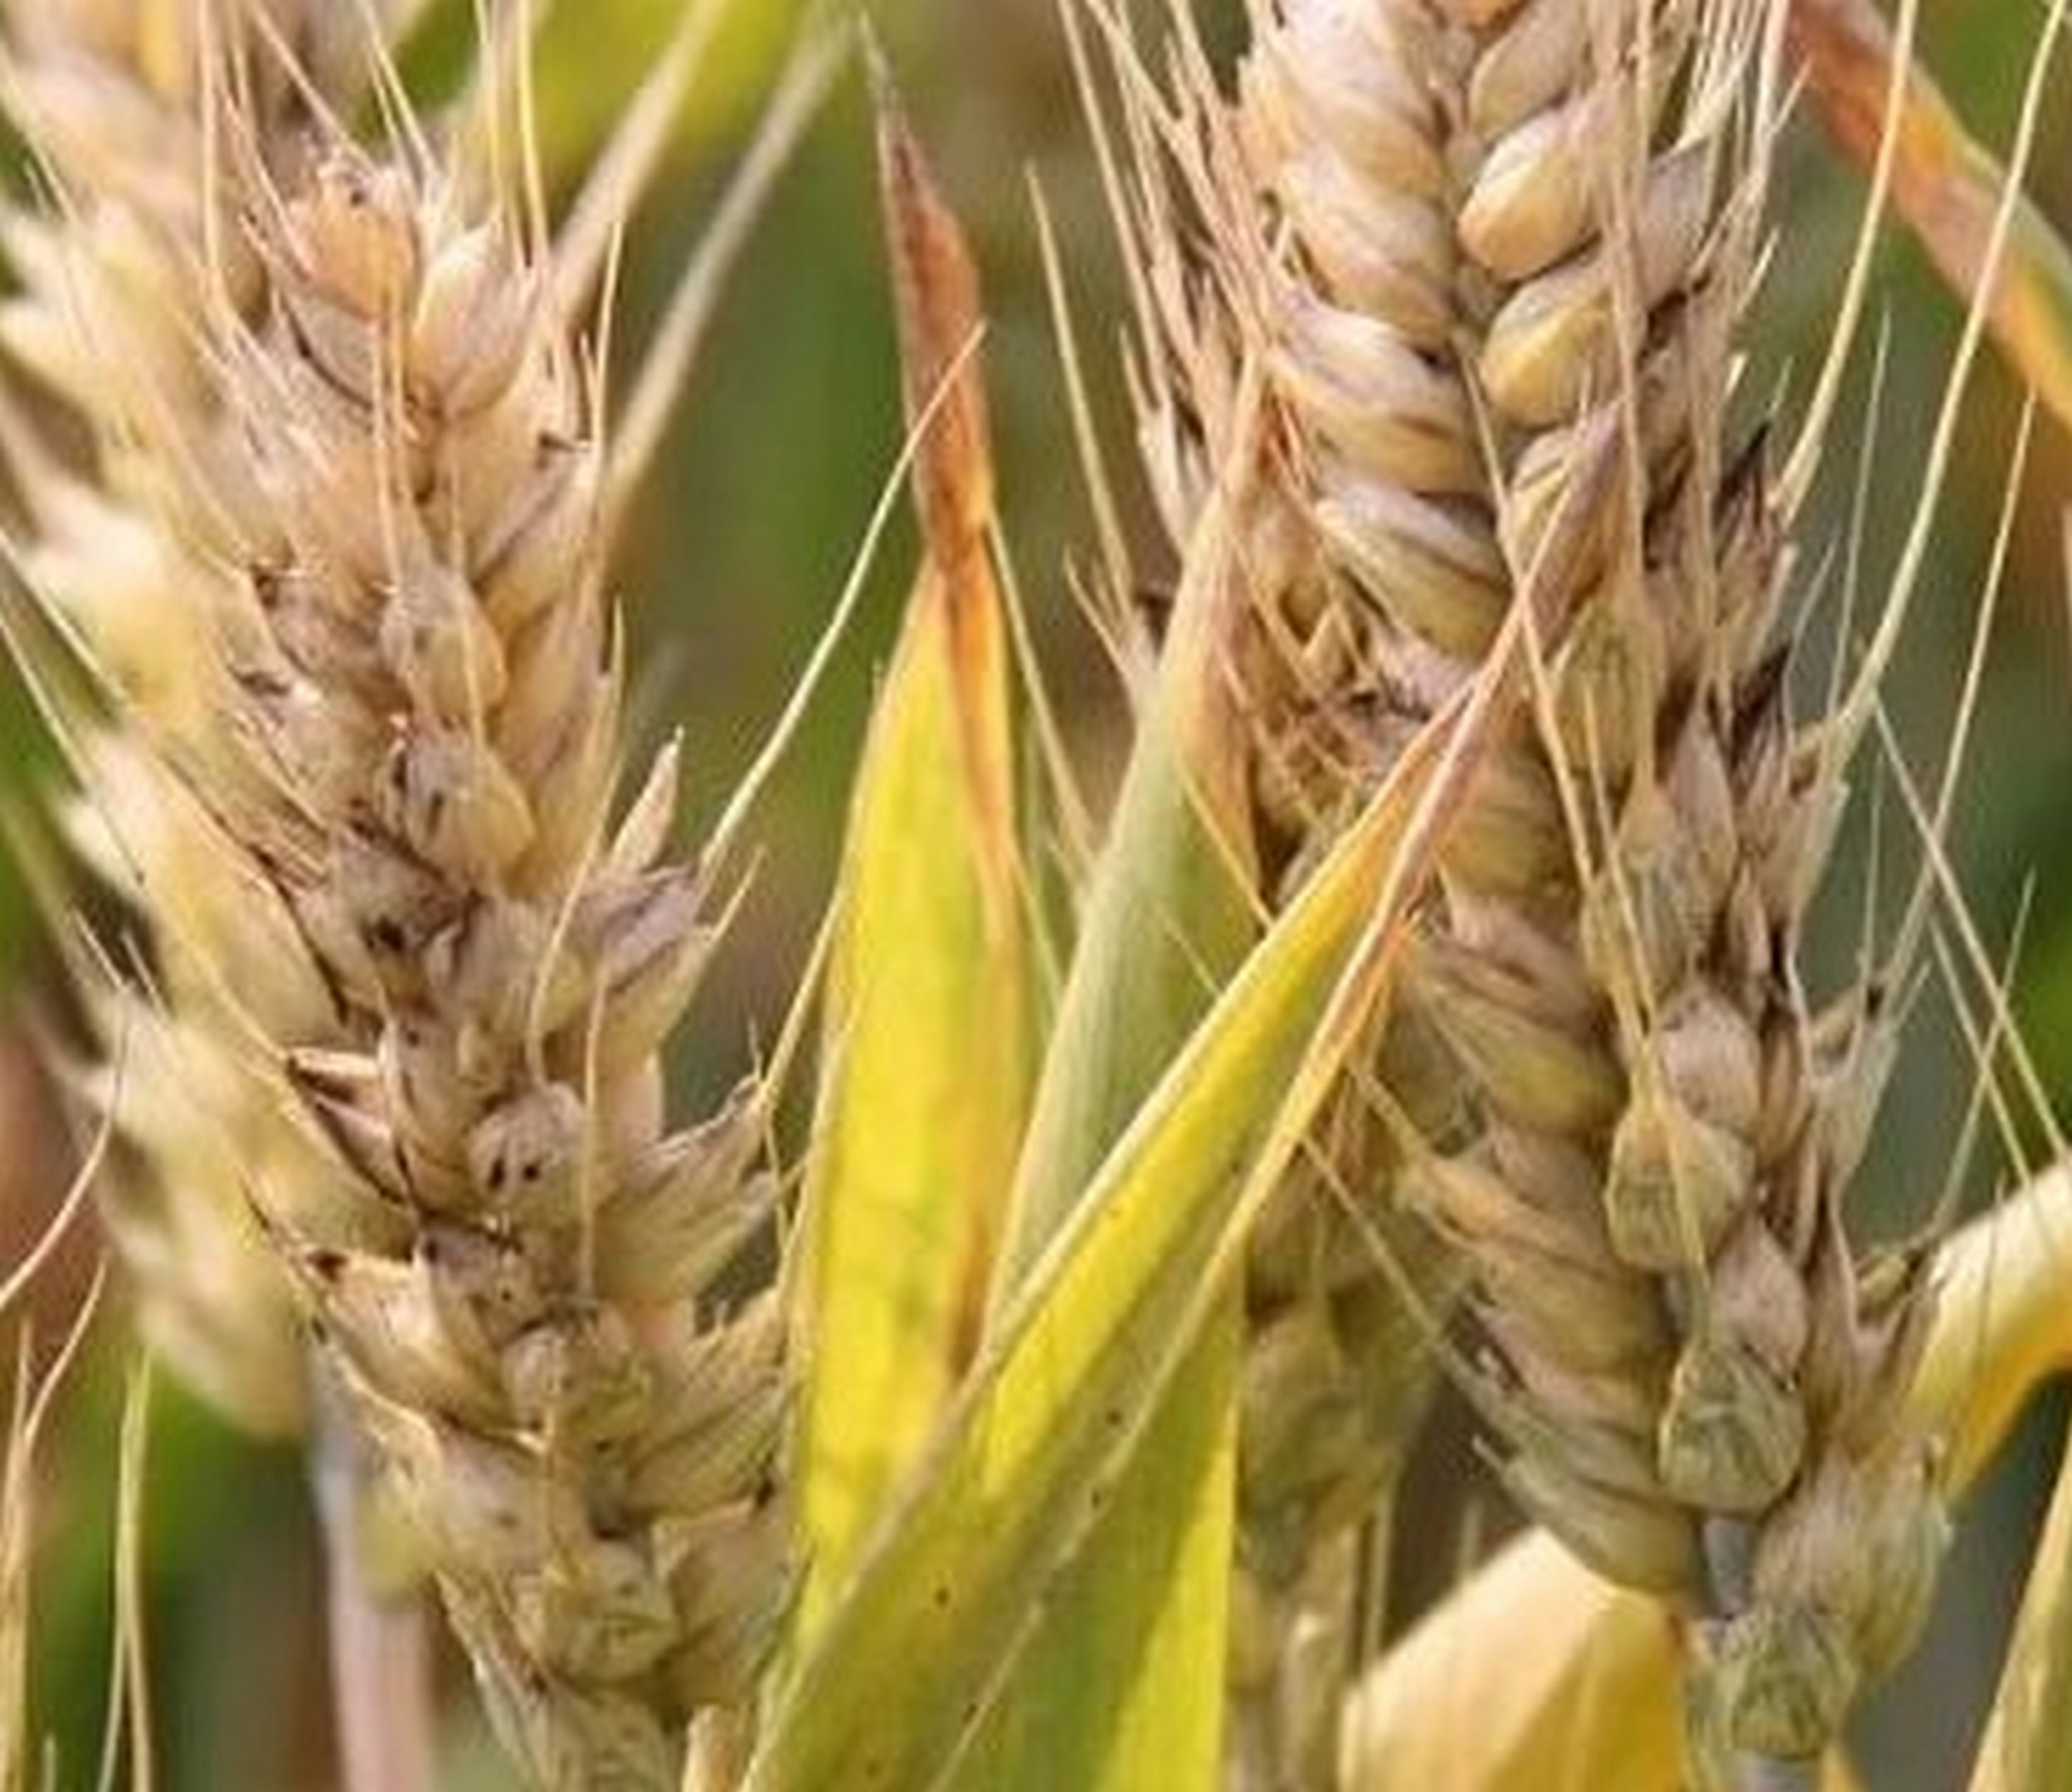Wheat scab: (1290, 62, 1935, 1744), (159, 122, 807, 1723)
